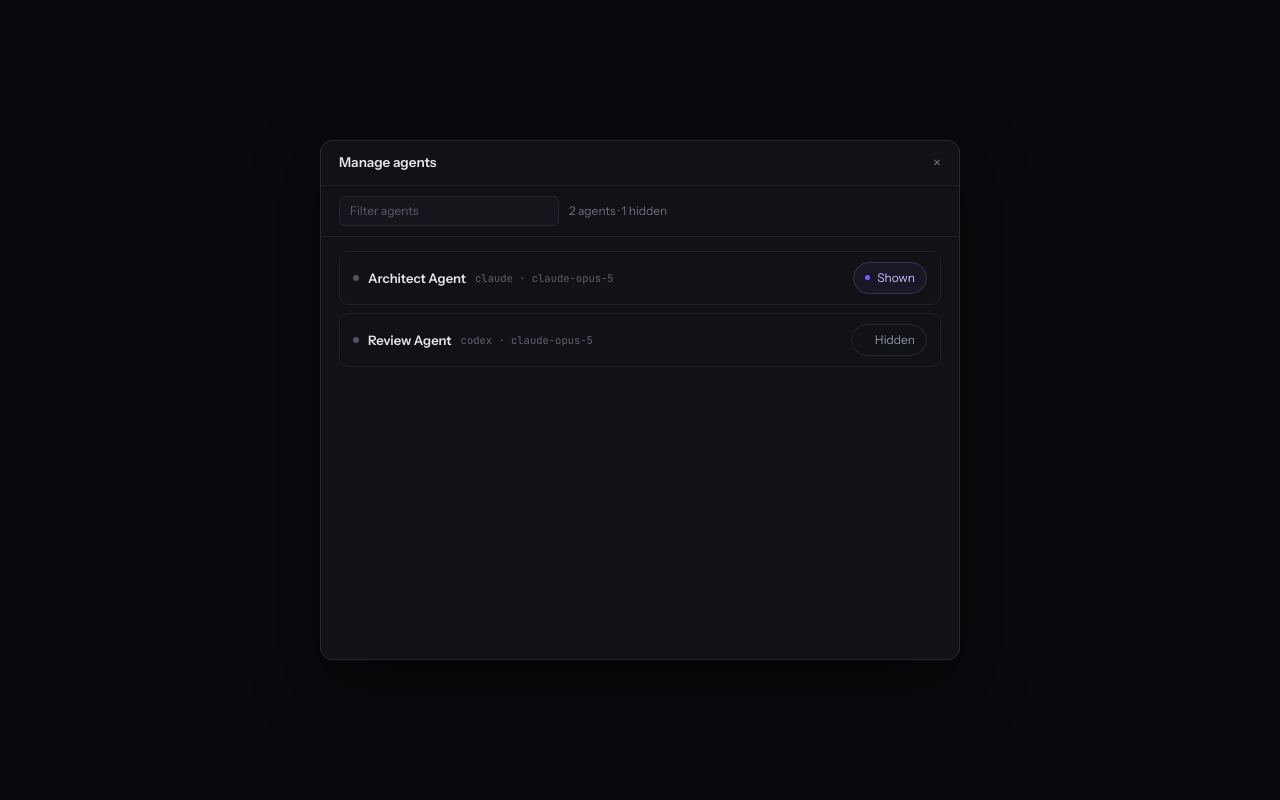
ManageAgentsModal — filtering › says nothing matched rather than claiming the roster is empty
Type "nothing" into the field labelled "Filter agents" at (449, 211), box [339,196,559,226]
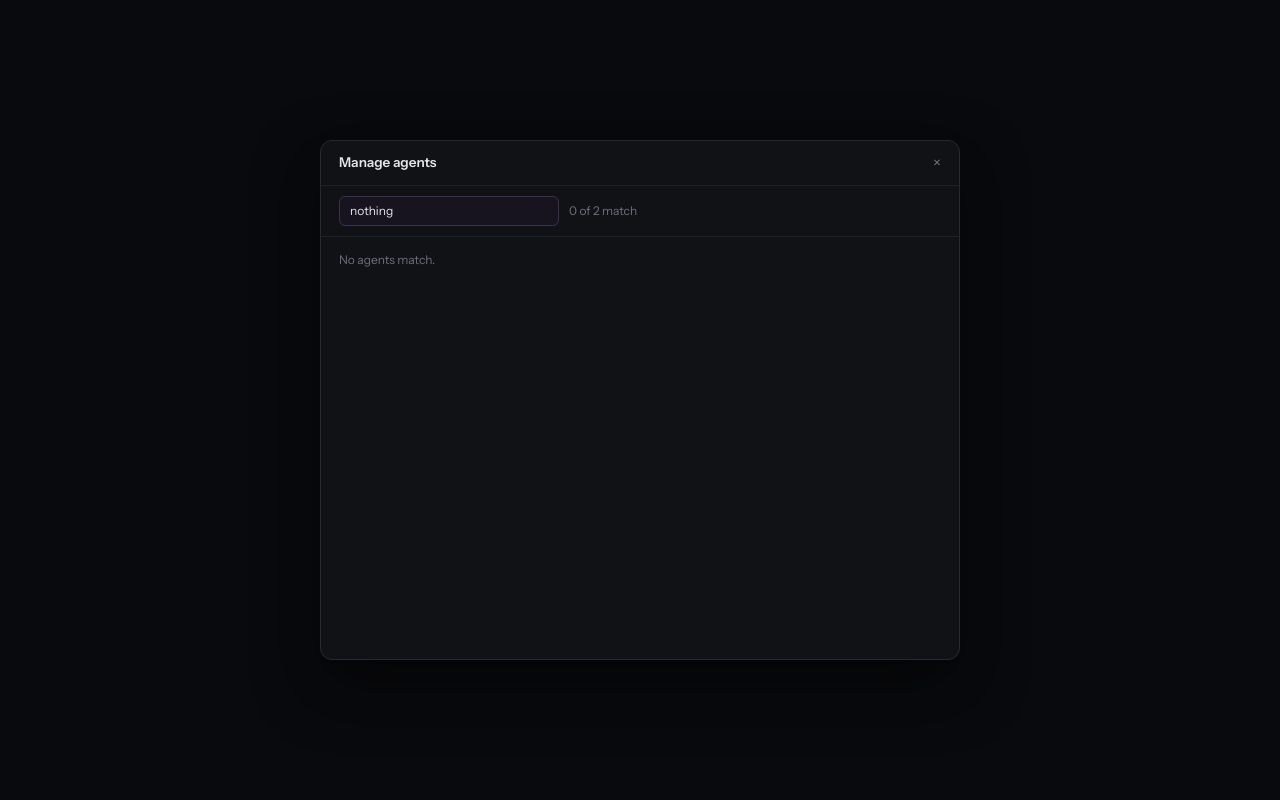
expect the text "No agents match." is shown: met, box [339,252,435,267]
